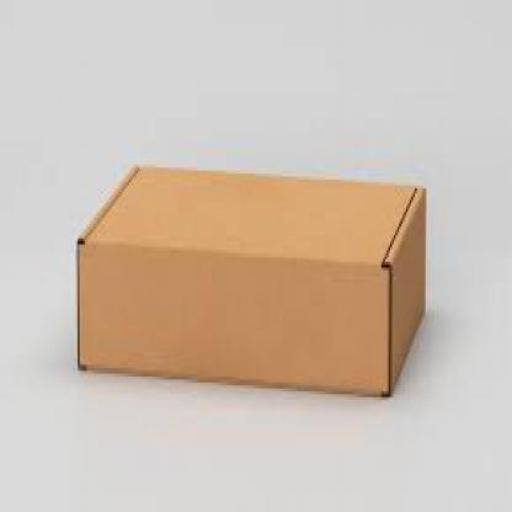cardboard: (74, 162, 424, 397)
